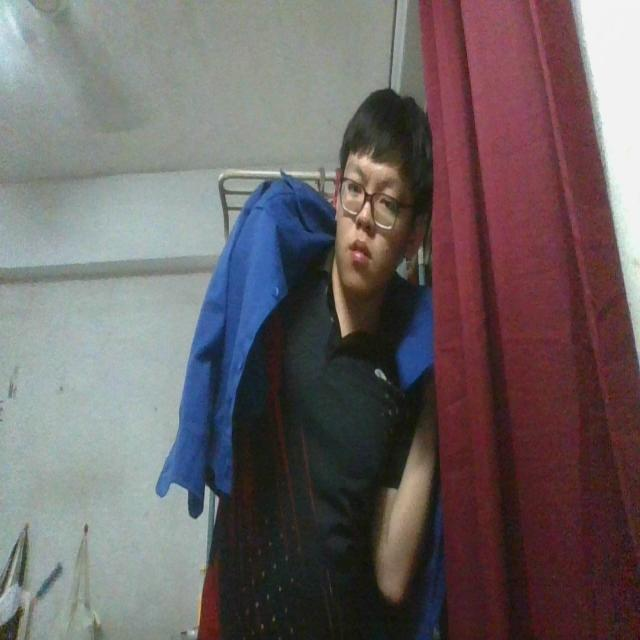person_without_labcoat: (156, 89, 444, 639)
